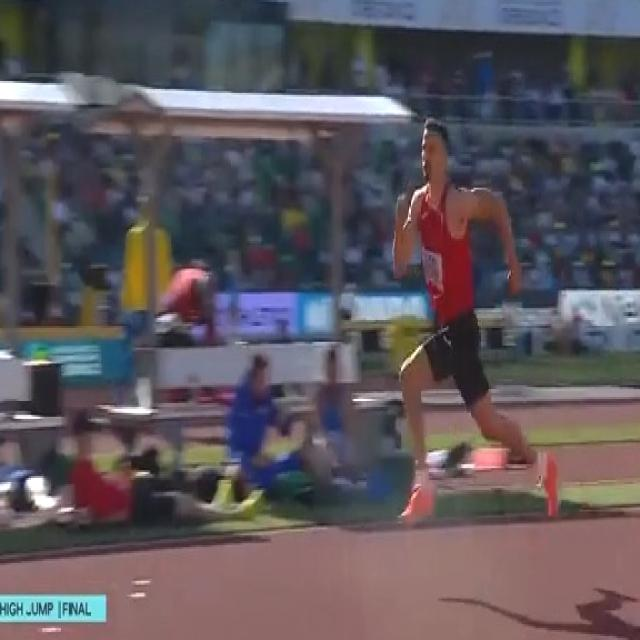run: (386, 116, 560, 526)
